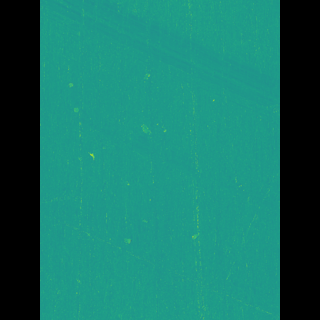Loch: (70, 0, 250, 124), (86, 98, 251, 214), (144, 120, 157, 137), (131, 233, 140, 245)
